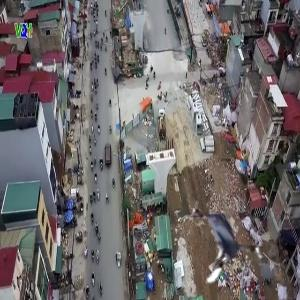drone: (166, 190, 270, 294)
